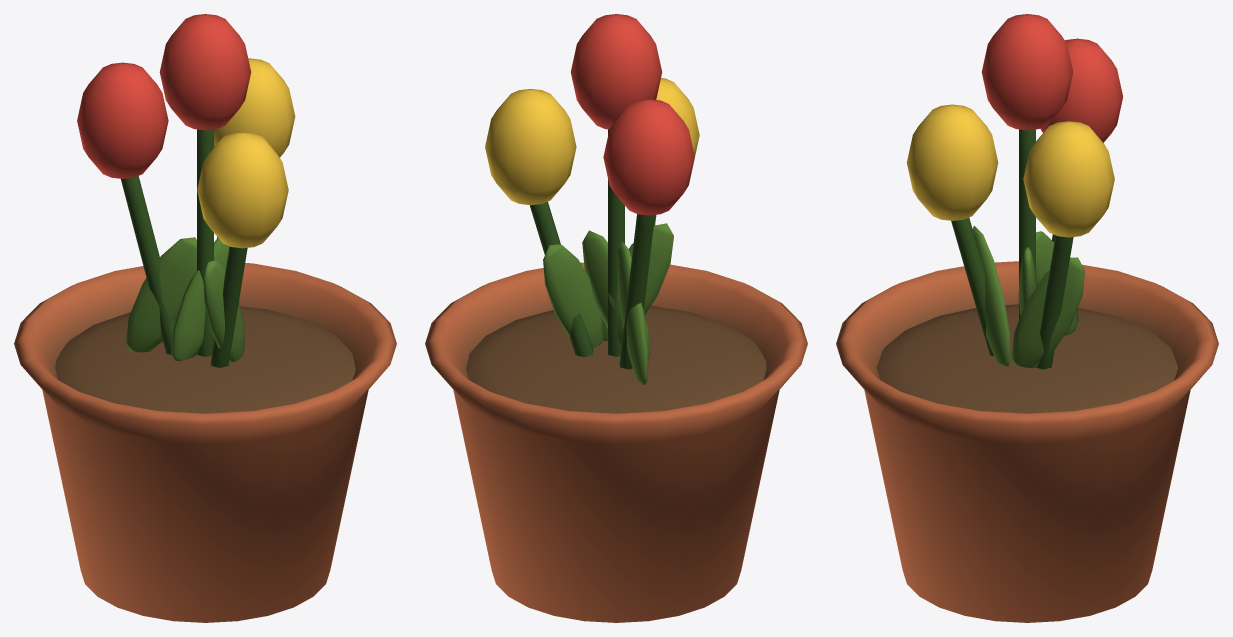
The model's file is blumentopf.glb.
3 renders of one model, left to right at view 1: azimuth 30°, elevation 25°; view 2: azimuth 150°, elevation 25°; view 3: azimuth 270°, elevation 25°, orthographic.
Parts seen in each view (by area): view 1: blumentopf-matt, blumentopf-lack; view 2: blumentopf-matt, blumentopf-lack; view 3: blumentopf-matt, blumentopf-lack.
Boxes of the visible parts, x1,y1,x2,y2 form: blumentopf-matt: (14, 129, 396, 622); blumentopf-lack: (77, 14, 295, 248); blumentopf-matt: (425, 129, 807, 622); blumentopf-lack: (485, 14, 699, 215); blumentopf-matt: (836, 129, 1218, 622); blumentopf-lack: (906, 14, 1122, 237).
Bounding box in the file's own units: 0.46 × 0.7343 × 0.46.
